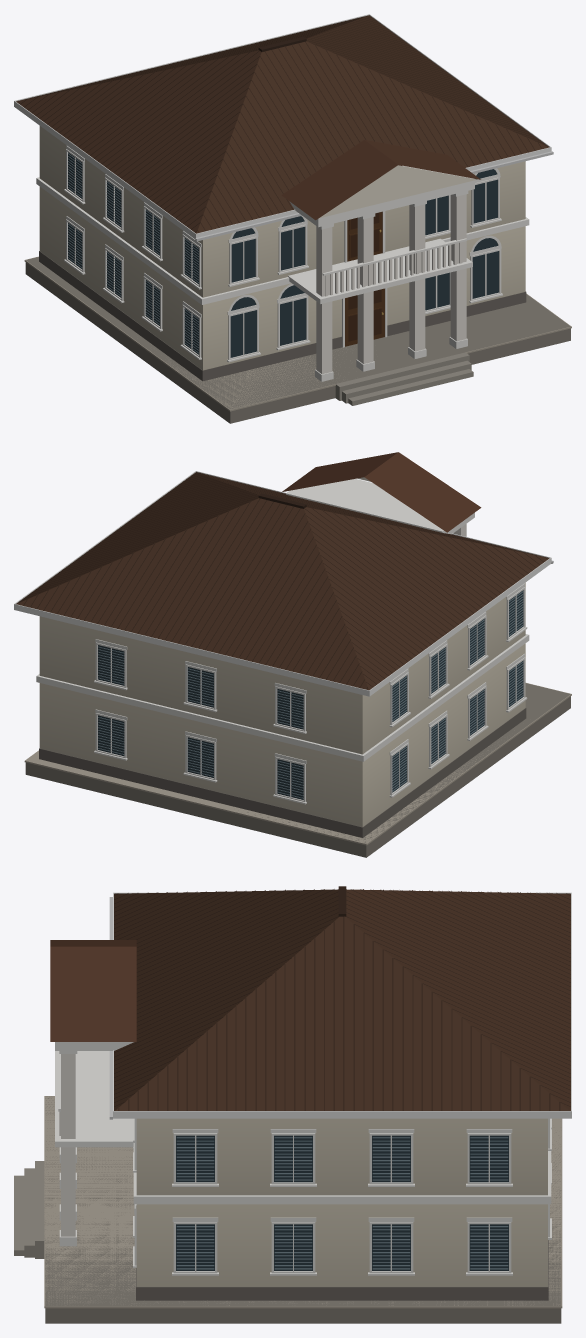
The model's file is ns_dup2.glb.
The picture shows the model from 3 angles, top to bottom: view 1: azimuth 30°, elevation 25°; view 2: azimuth 150°, elevation 25°; view 3: azimuth 270°, elevation 25°; orthographic projection. The views are drawn at different scales.
Visible parts, largest first — view 1: ns_dup2; view 2: ns_dup2; view 3: ns_dup2.
Part boxes in pixels (x1,y1,x2,y2): ns_dup2: (14,14,571,423); ns_dup2: (14,452,571,857); ns_dup2: (14,886,571,1323).
Bounding box in the file's own units: 15.92 × 10.77 × 17.09.
